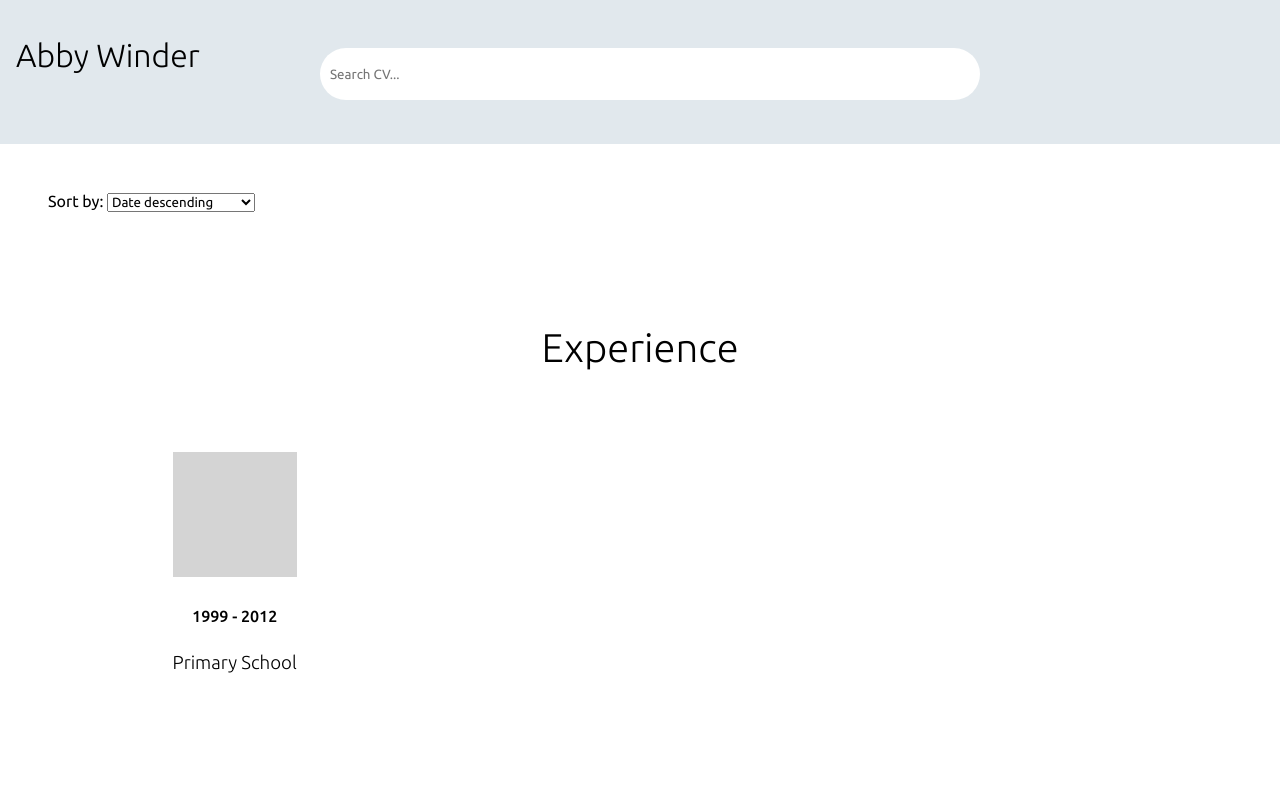
Test case: <LandingScreen /> › Produces validation error when search bar input length is over 100 characters
Type "Lorem ipsum dolor sit amet, consectetur adipiscing elit, sed do eiusmod tempor incididunt ut labore et dolore magna aliqua." into the field at (650, 74), box x1=320 y1=48 x2=980 y2=100
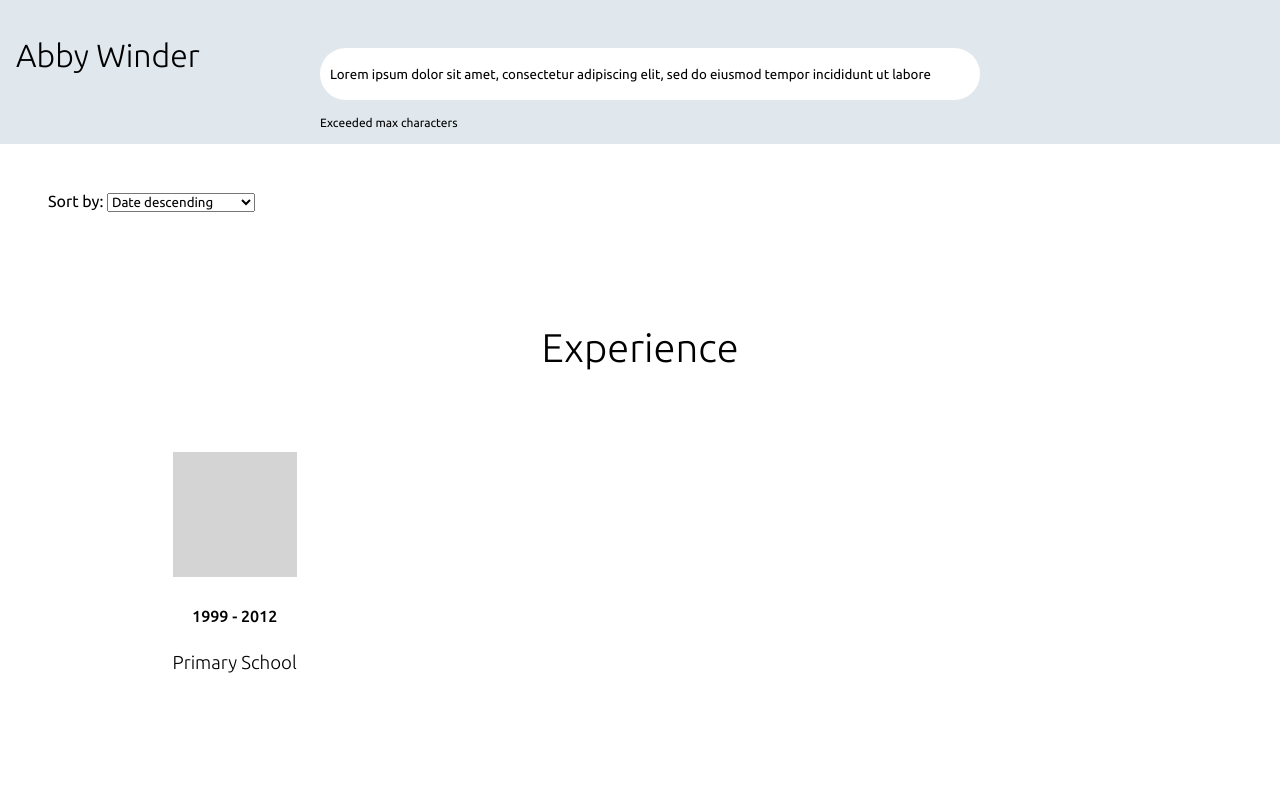
Check: the text "Exceeded max characters" is shown, box x1=320 y1=116 x2=458 y2=129
Check: the field holds "Lorem ipsum dolor sit amet, consectetur adipiscing elit, sed do eiusmod tempor incididunt ut labore ", box x1=320 y1=48 x2=980 y2=100
